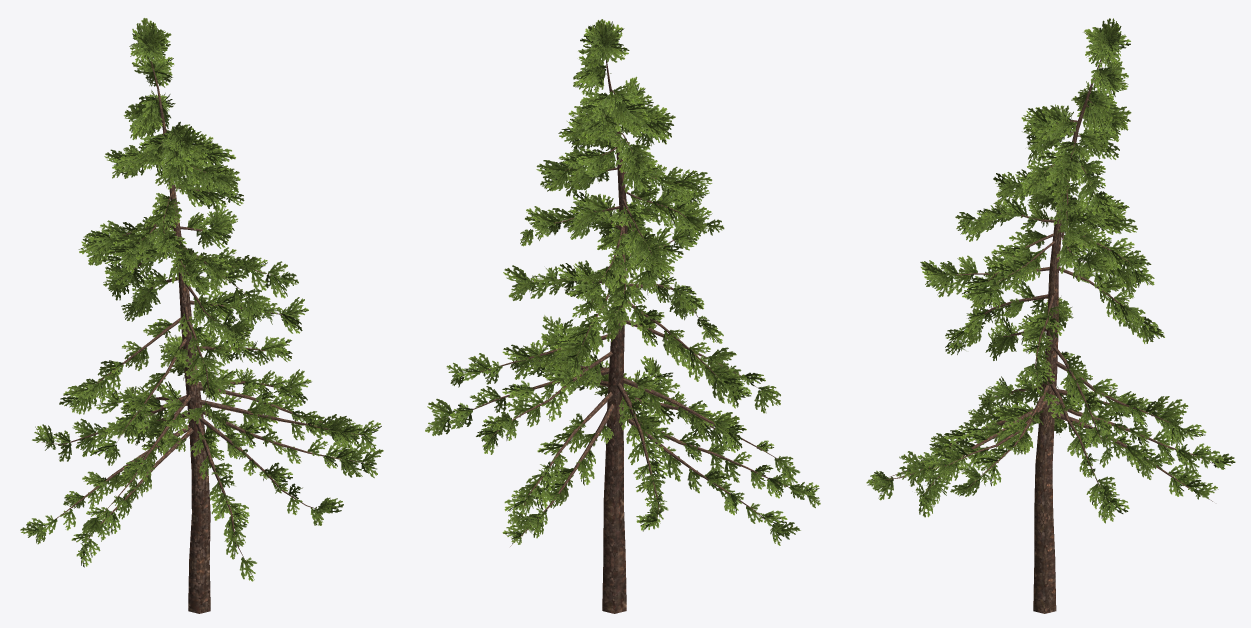
Rendered from pine_b.glb.
3 views of the same model, side by side, from view 1: azimuth 30°, elevation 25°; view 2: azimuth 150°, elevation 25°; view 3: azimuth 270°, elevation 25° (orthographic). The views are drawn at different scales.
Visible parts, largest first — view 1: Tree; view 2: Tree; view 3: Tree.
Part boxes in pixels (x1,y1,x2,y2): Tree: [20, 18, 383, 613]; Tree: [425, 19, 820, 613]; Tree: [866, 18, 1235, 613].
Size of the model in its own units: 30.02 by 51.27 by 30.23.
2 materials, 2 textured.
